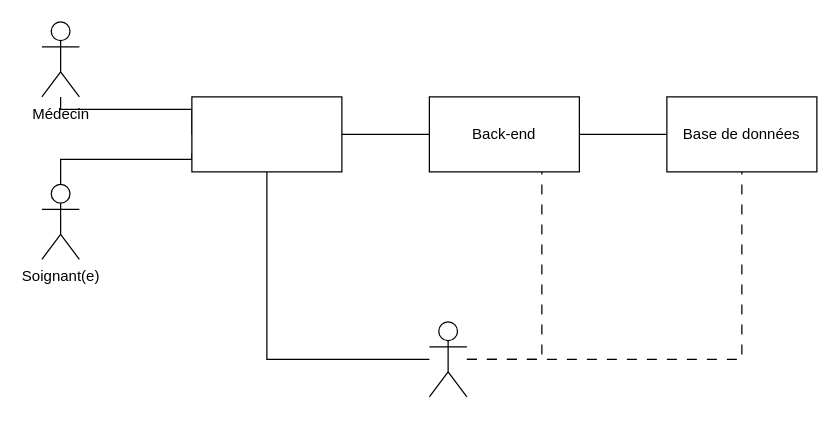
Some shapes in this 839 by 445 pixel diagram are drawn without their labels. Here are the shapes that lost their labels. From the top down, the centre of each, then its label:
[266,134]: Front-end
[447,359]: Administrateur
